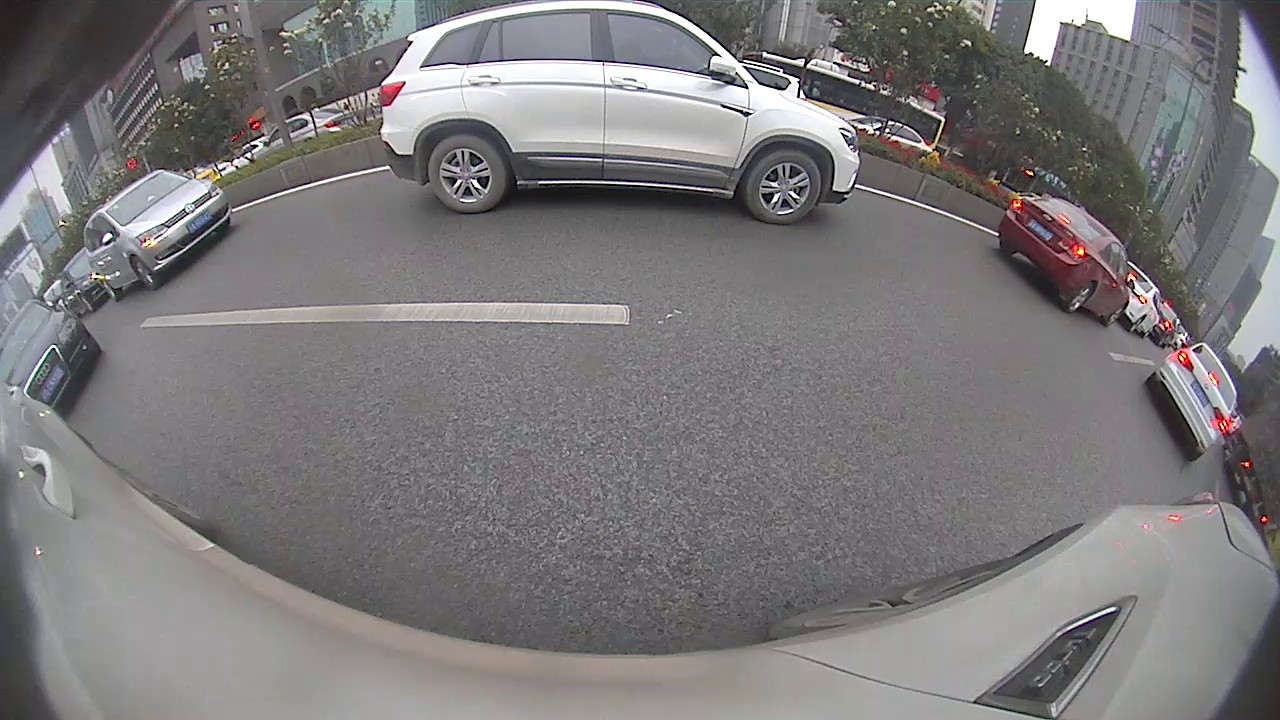car: (380, 1, 863, 228), (82, 168, 233, 303), (994, 195, 1137, 327), (0, 297, 103, 411), (1145, 338, 1238, 461)
front: (747, 149, 821, 223), (128, 257, 158, 292)
rear: (427, 138, 508, 211), (1065, 281, 1100, 312), (96, 277, 119, 302)
